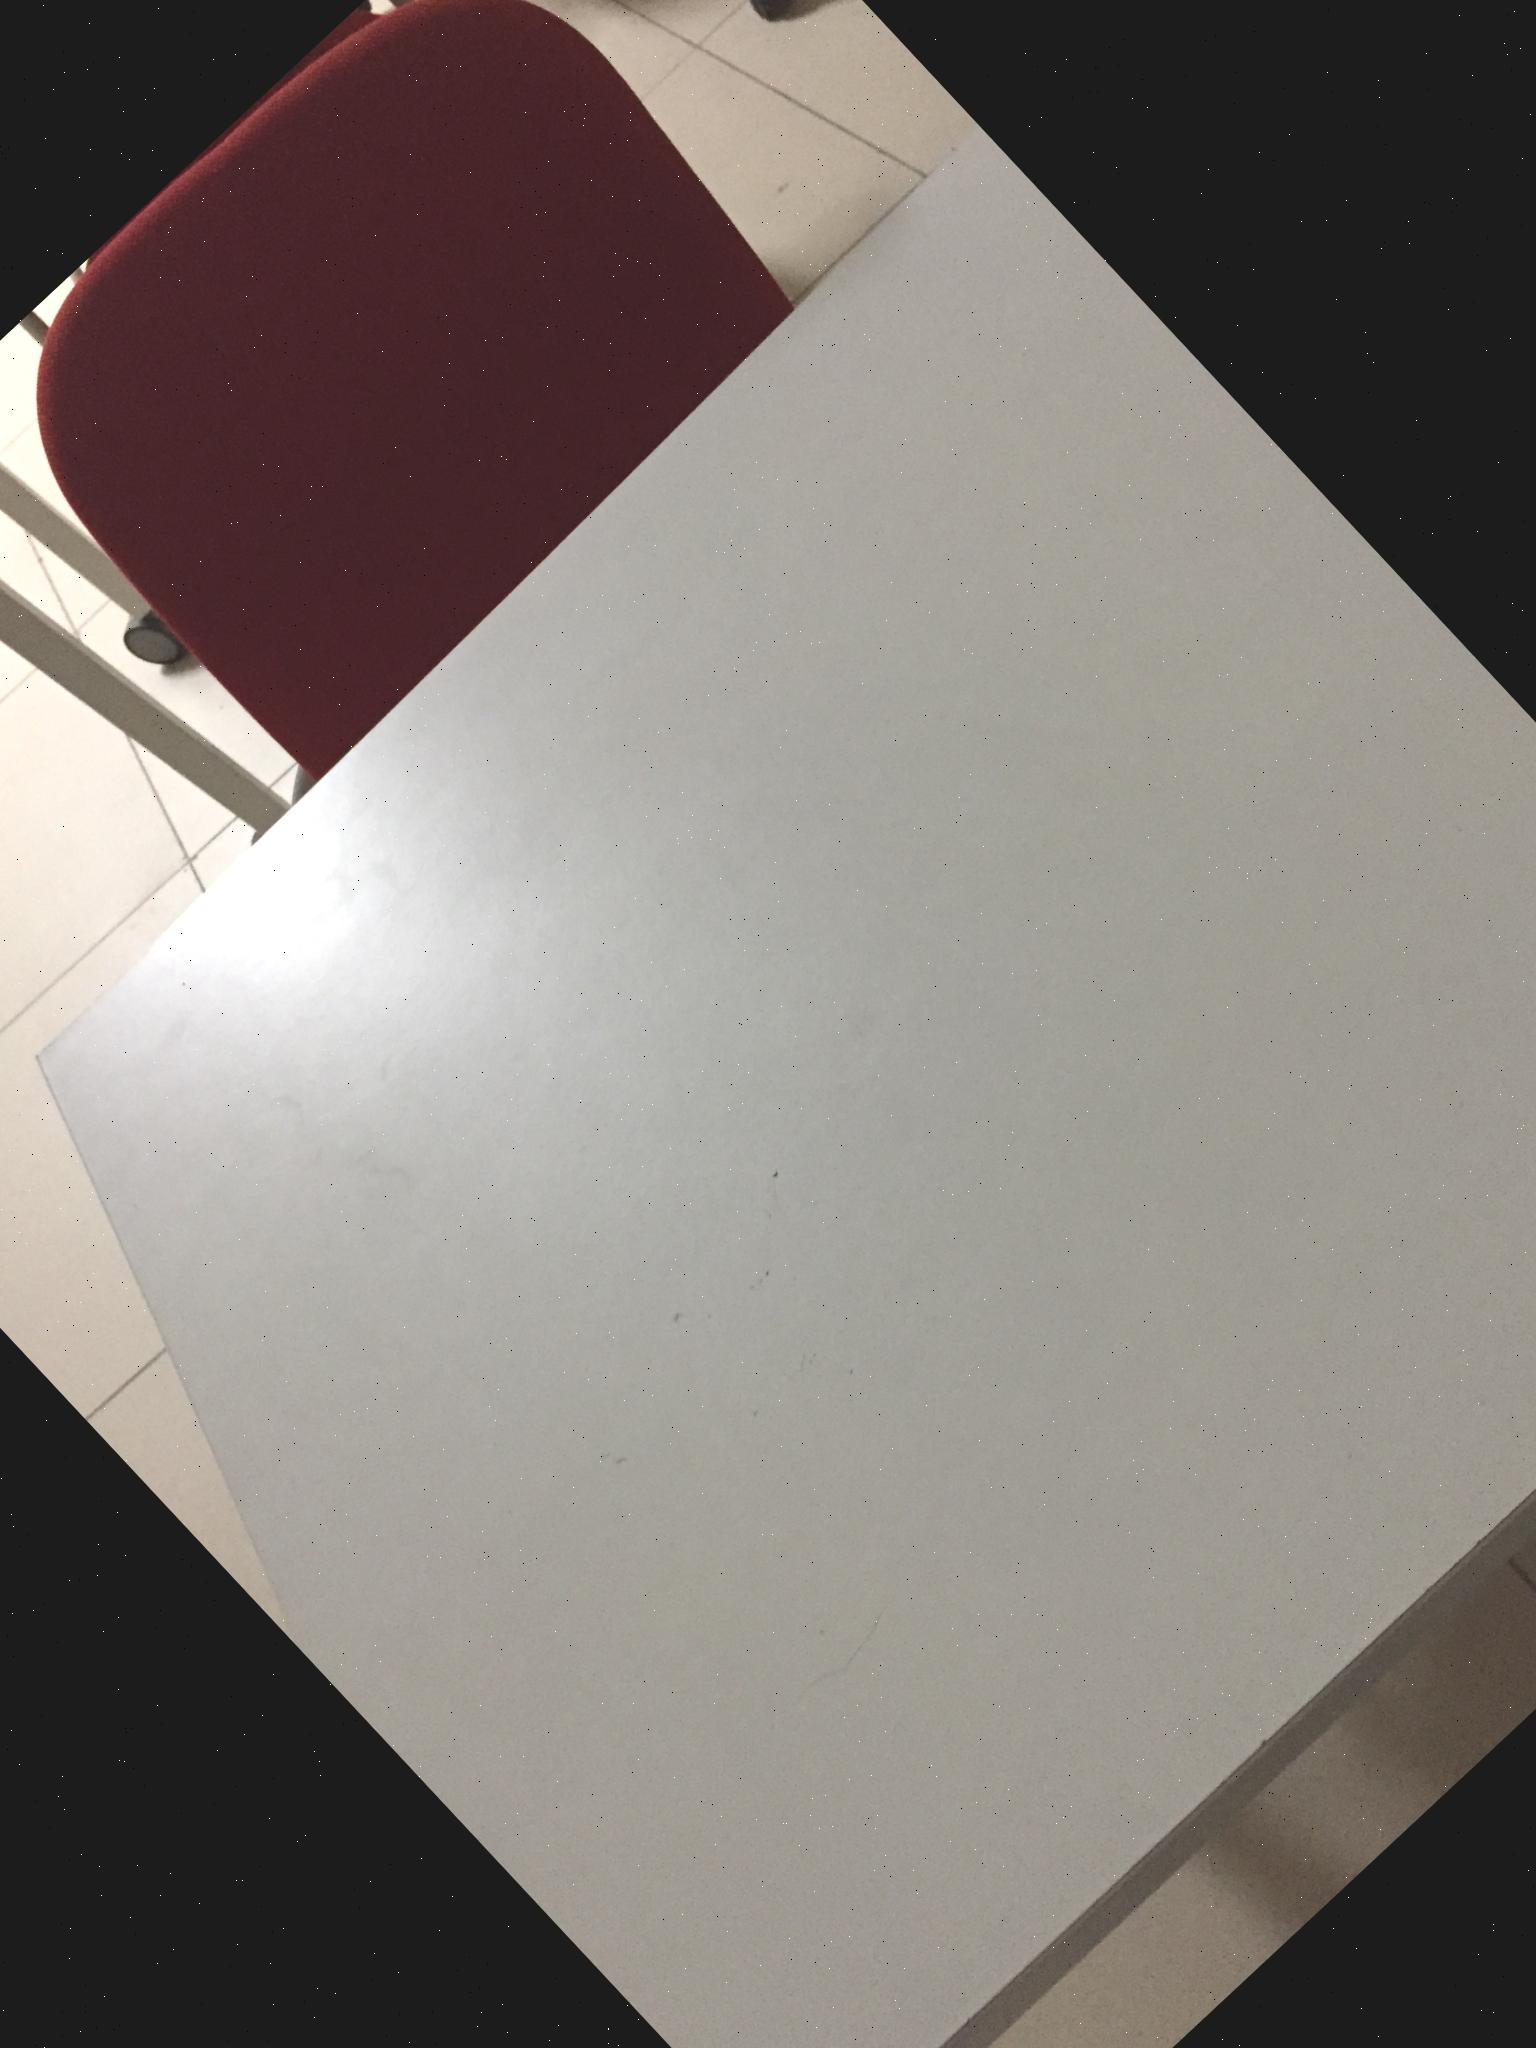chair: (0, 0, 831, 792)
